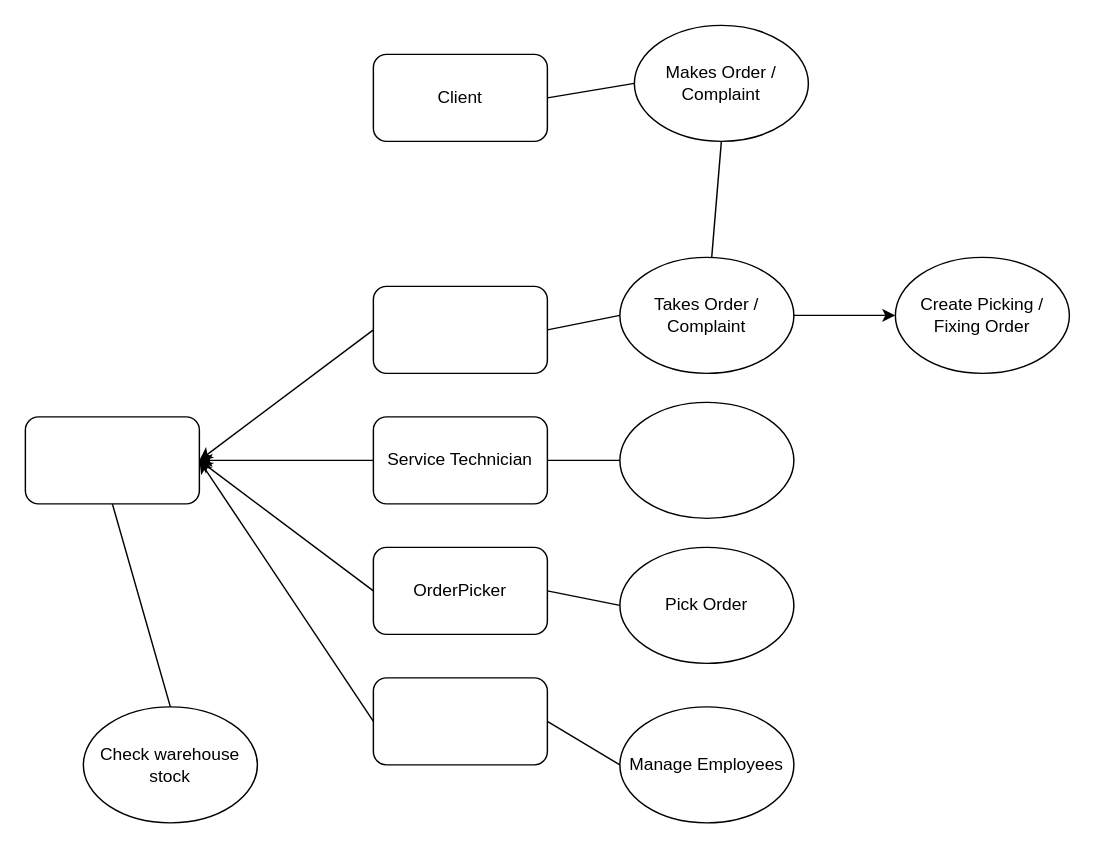
Some shapes in this 1095 by 848 pixel diagram are drawn without their labels. Each missing label, with the box of its shape:
Manager: (372, 676, 547, 765)
Order Taker: (372, 285, 547, 373)
Realize Fixing Order: (618, 401, 794, 518)
Worker: (24, 415, 199, 504)
